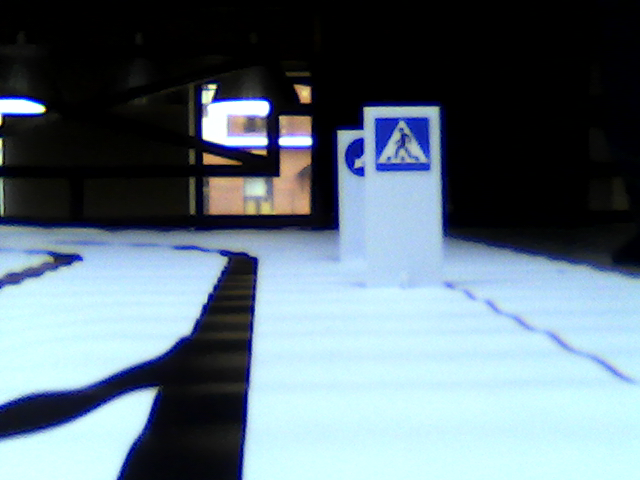pesh: (374, 117, 431, 171)
